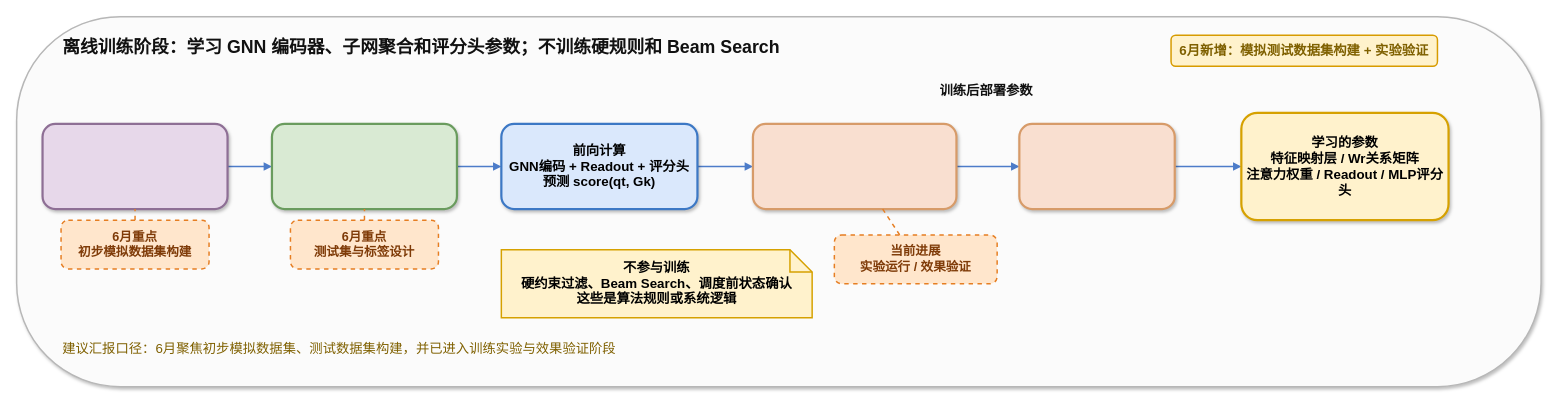
This 1558x405 diagram has some shape labels left out. The centre of each missing label's shape, as x and y in pixels:
"反向传播 更新可训练参数" goes at pixel 1097 167.
"损失函数 Lscore + Lrank + Lconstraint 优子网分数 > 差子网分数" goes at pixel 855 167.
"标签形式 排序标签 / 执行时间 / 加速比 / QoS满足" goes at pixel 365 167.
"训练样本构造 (qt, Gk, yk) 历史运行 / 仿真 / 专家调度" goes at pixel 135 167.
